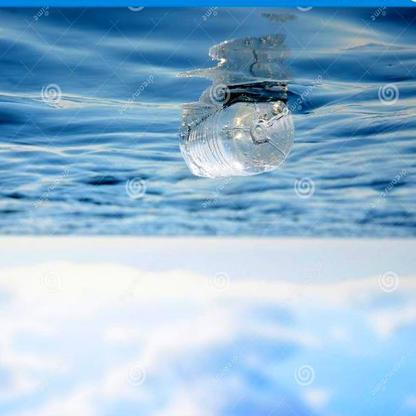plastic bottle: (178, 102, 295, 178)
